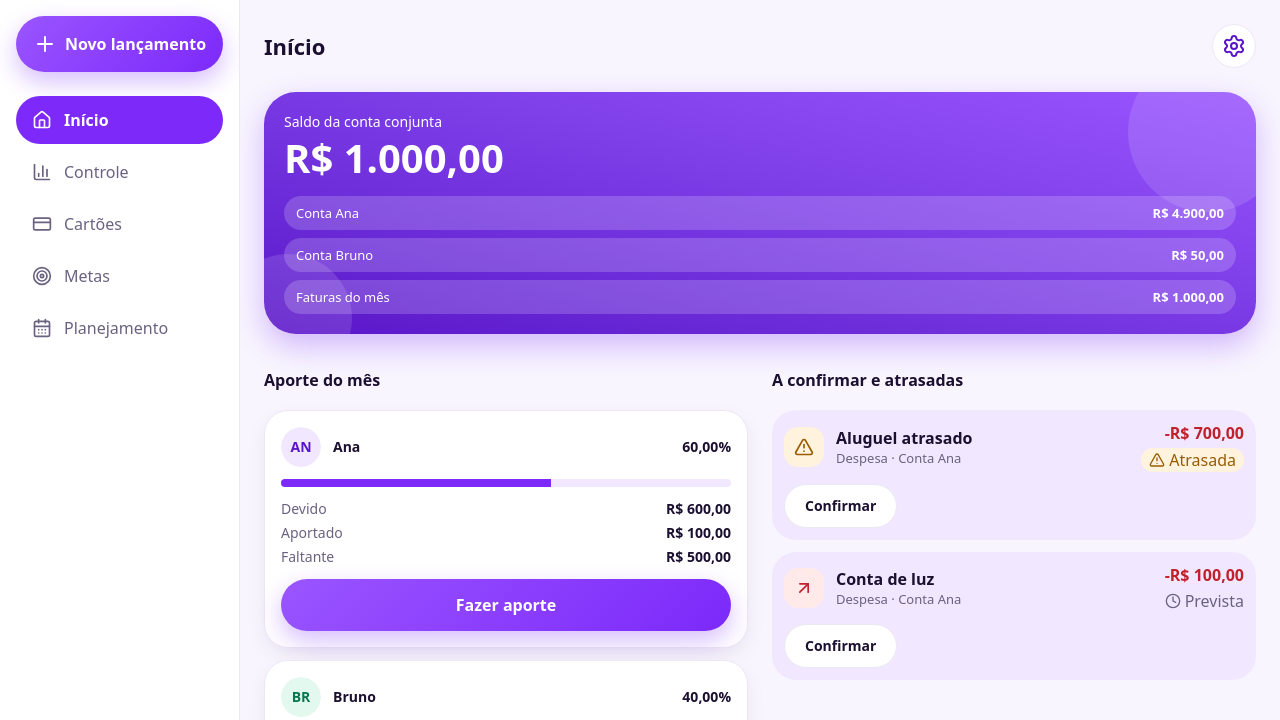
Test: Início: a confirmar e atrasadas (CA-5.17) › "Confirmar" retira o lançamento do bloco e o Início é consultado de novo
Click the button "Confirmar" below "Conta de luz".
click(841, 646)  # box x1=784 y1=624 x2=897 y2=668
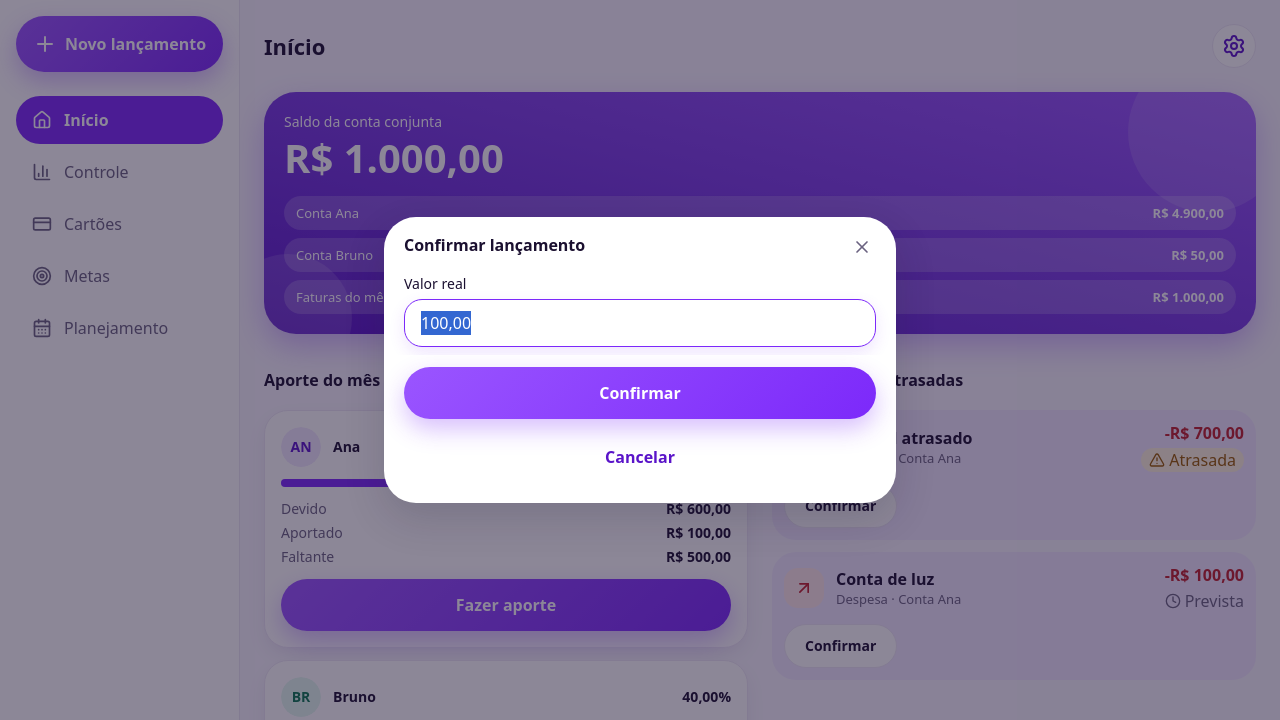
Expected: the field labelled "Valor real" holds "100,00", x1=404 y1=299 x2=876 y2=347
Click the button "Confirmar".
click(640, 393)  # box x1=404 y1=367 x2=876 y2=419
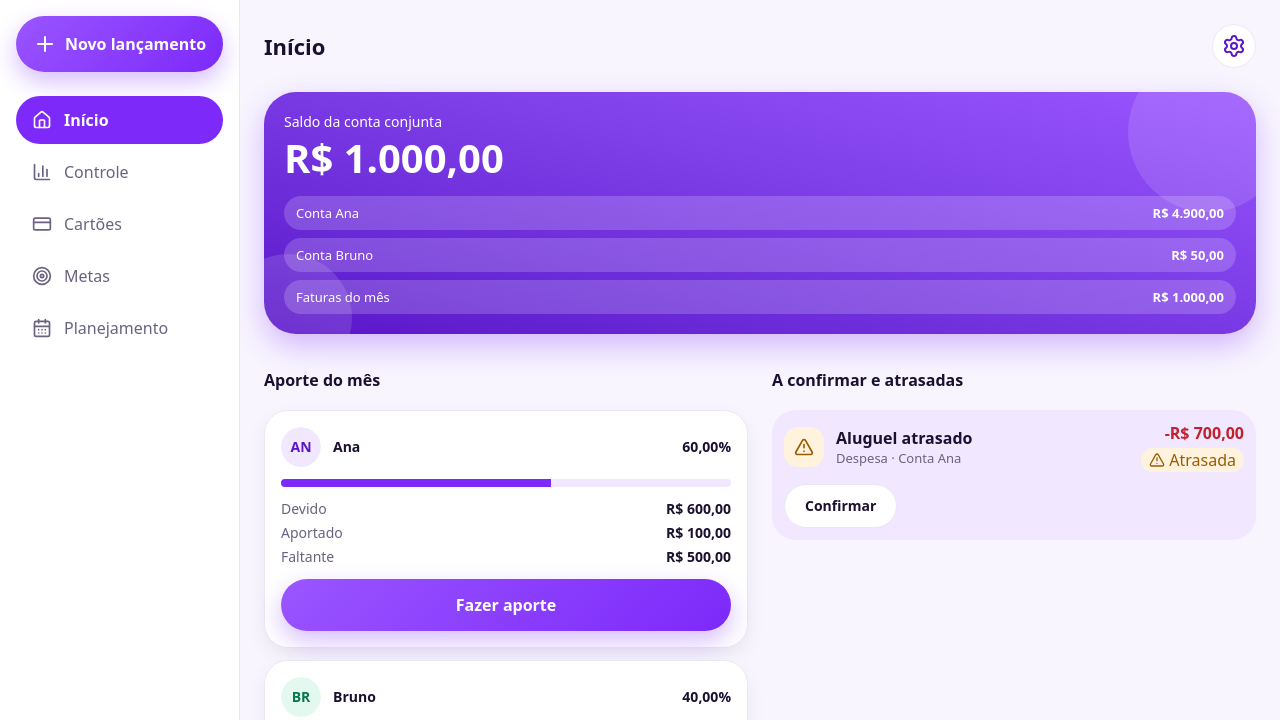
Expected: the text "Aluguel atrasado" is shown, x1=836 y1=427 x2=972 y2=449
Expected: the text "Conta de luz" is gone
